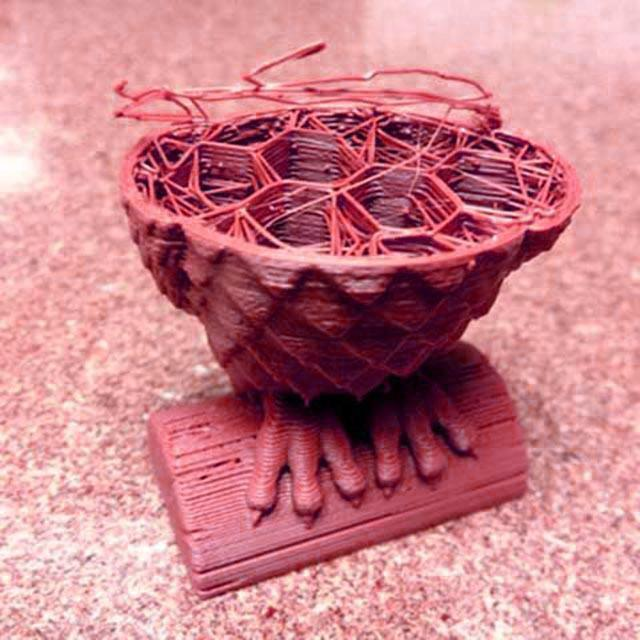spaghetti: (110, 38, 505, 152)
